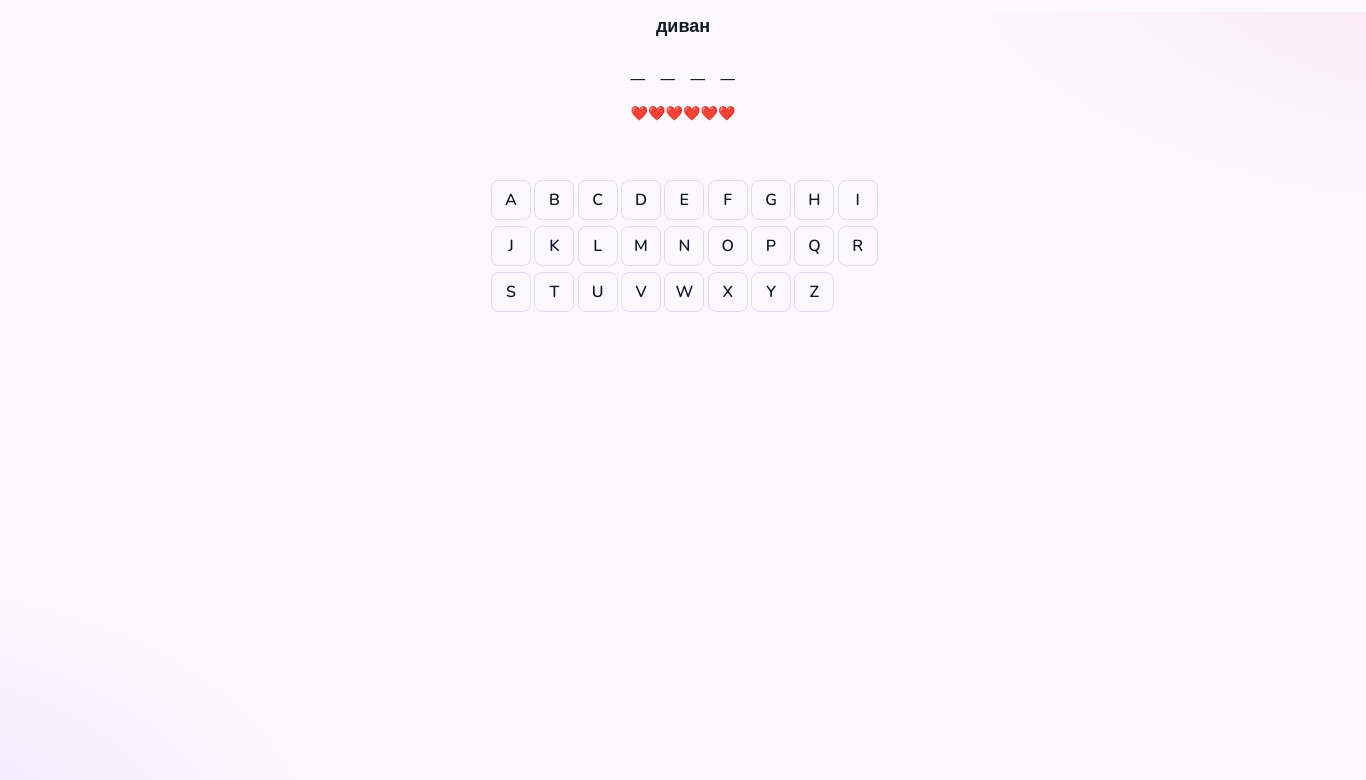
Test: LetterGuess › shows the word after six wrong letters
Click the button "b" at (554, 200), box x1=534 y1=180 x2=574 y2=220
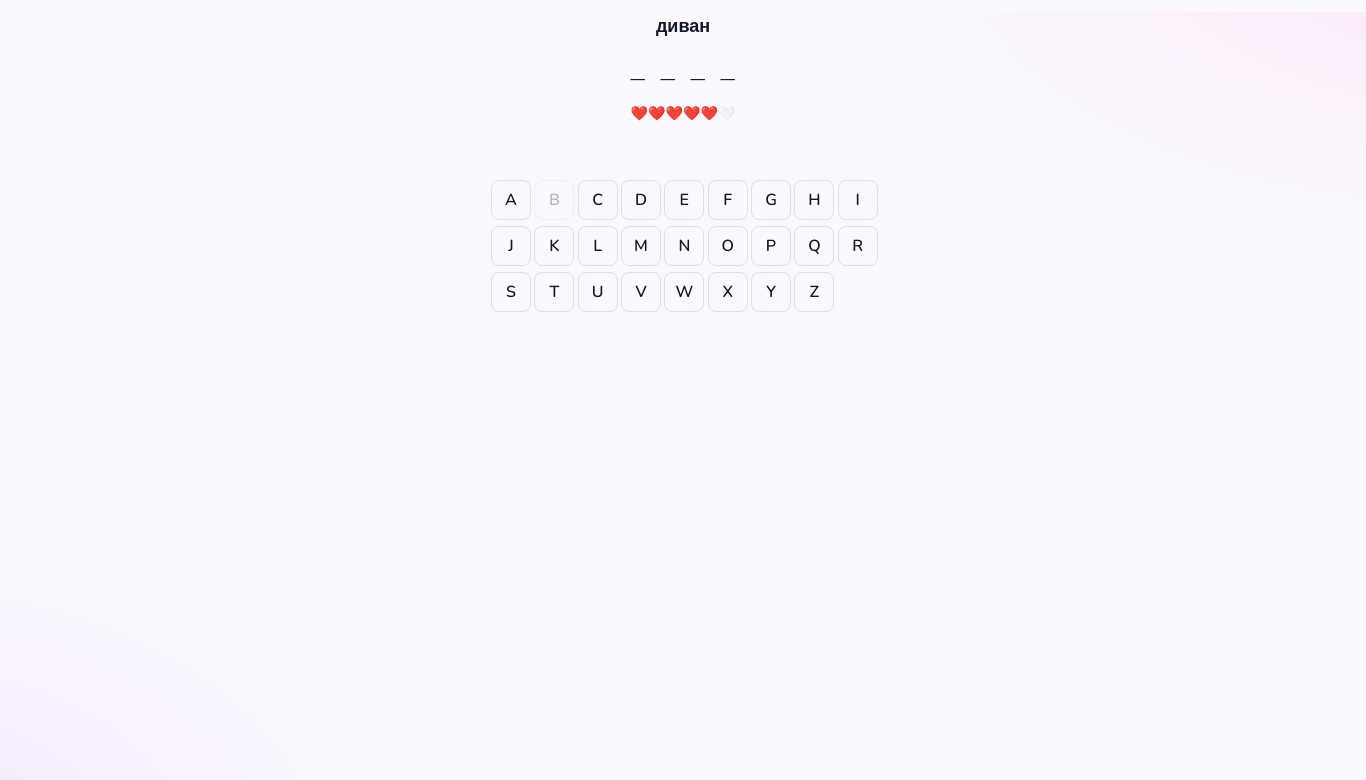
Click the button "c" at (598, 200), box x1=578 y1=180 x2=618 y2=220
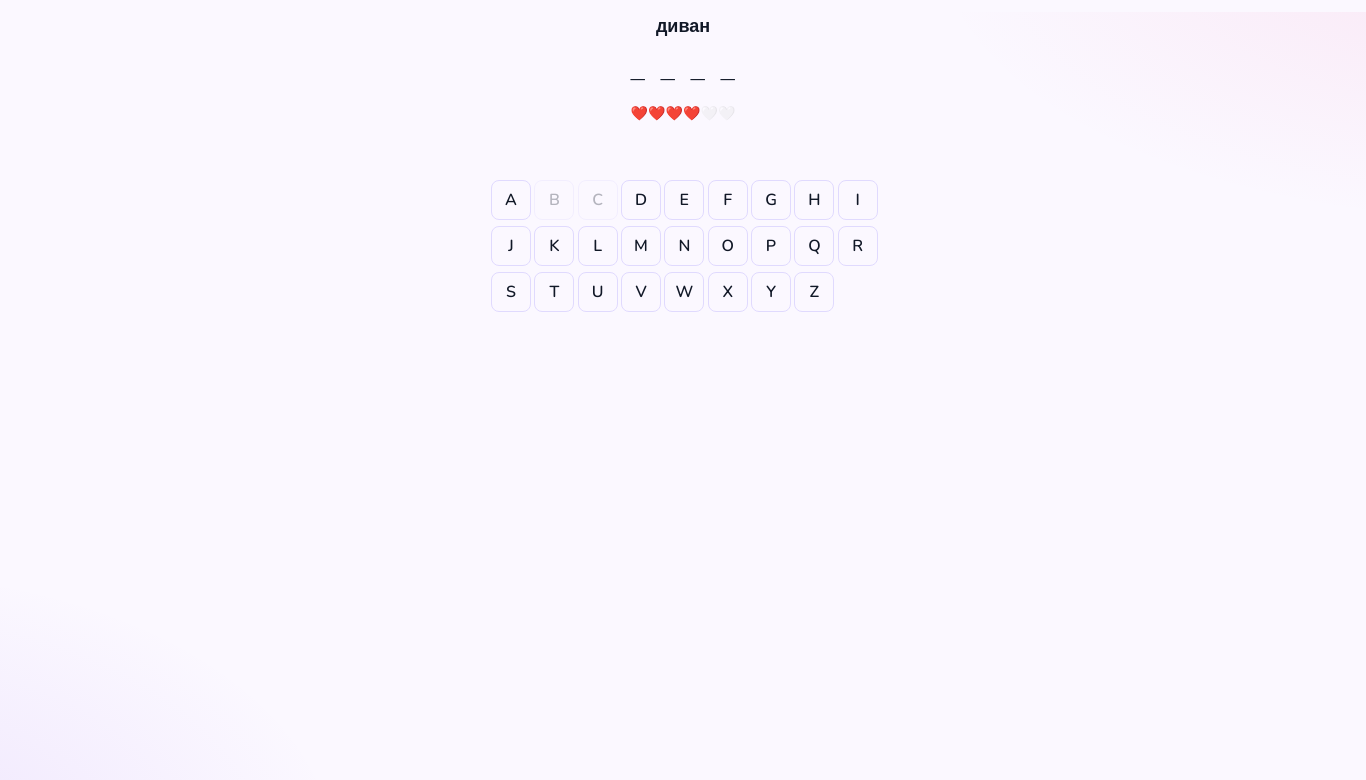
Click the button "d" at (641, 200), box x1=621 y1=180 x2=661 y2=220
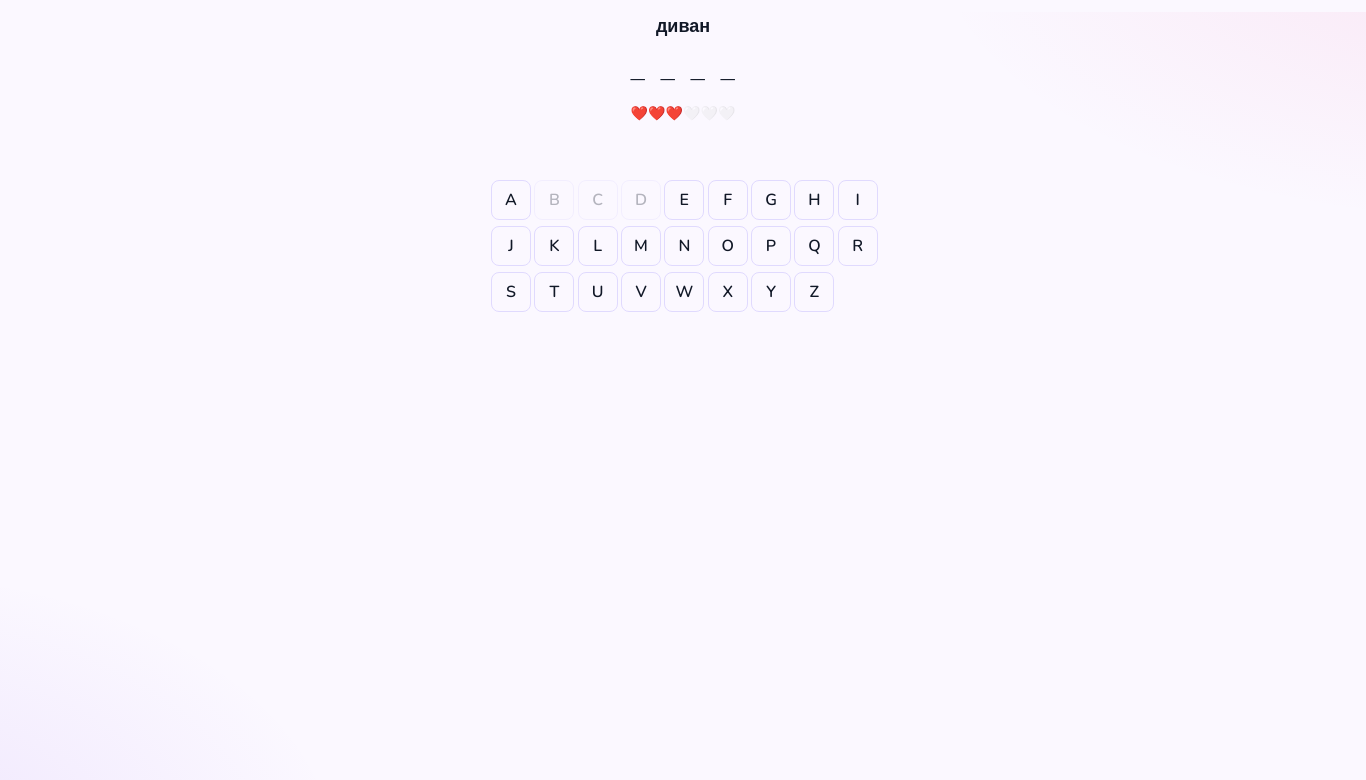
Click the button "e" at (684, 200), box x1=664 y1=180 x2=704 y2=220
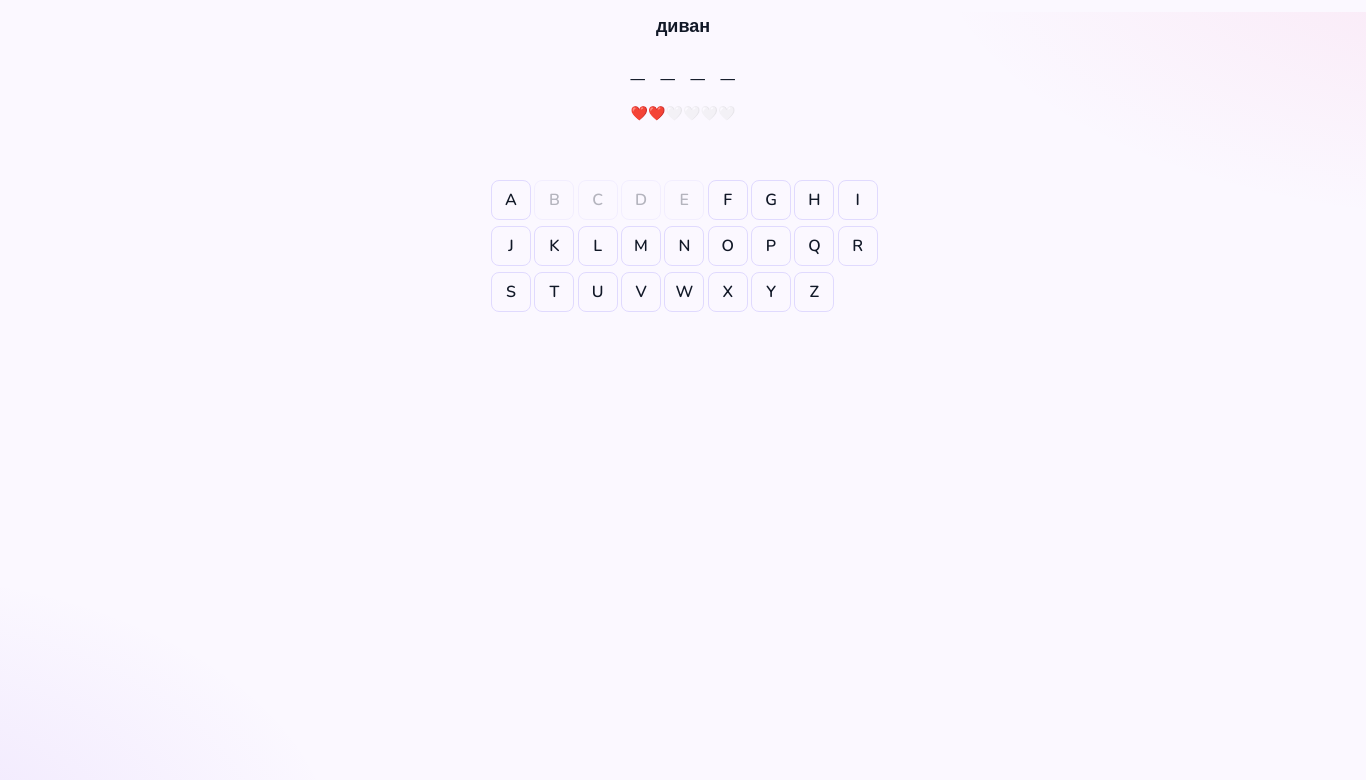
Click the button "g" at (771, 200), box x1=751 y1=180 x2=791 y2=220
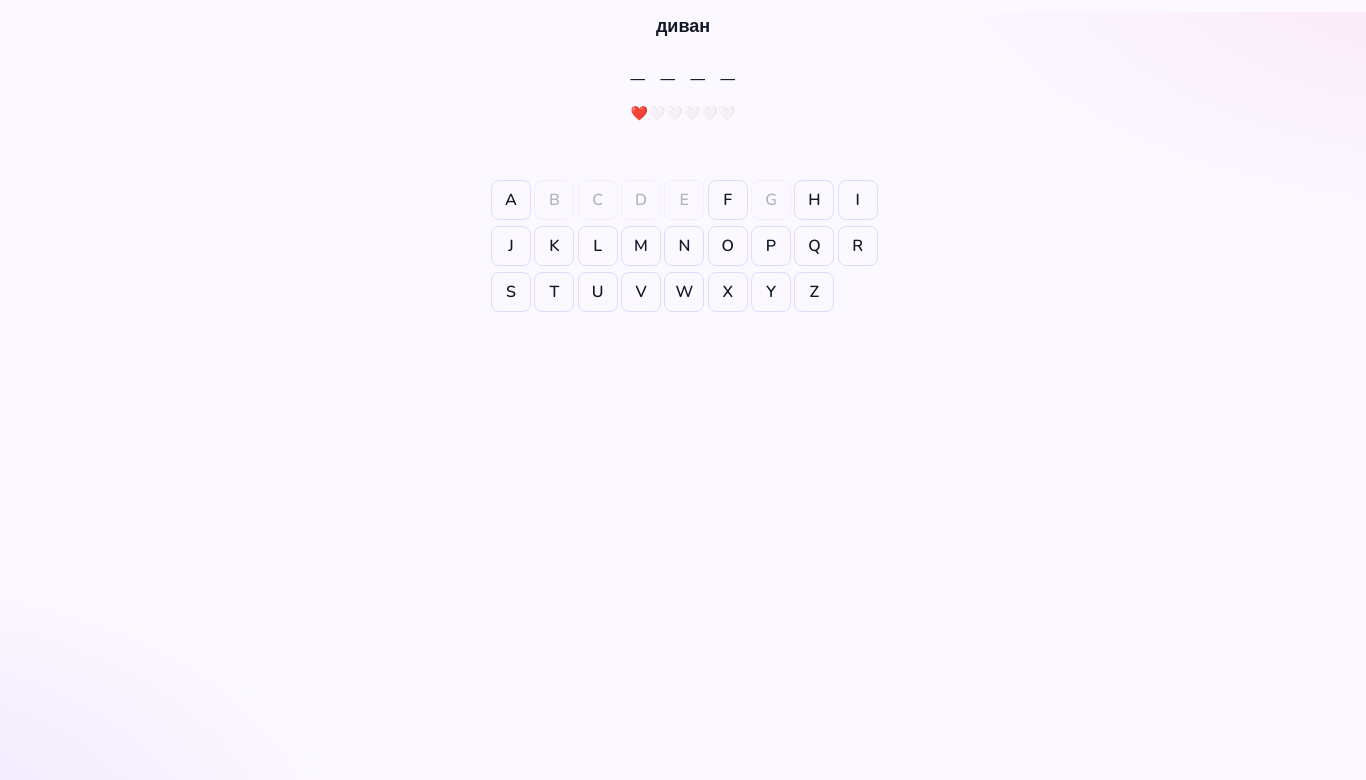
Click the button "h" at (814, 200), box x1=794 y1=180 x2=834 y2=220
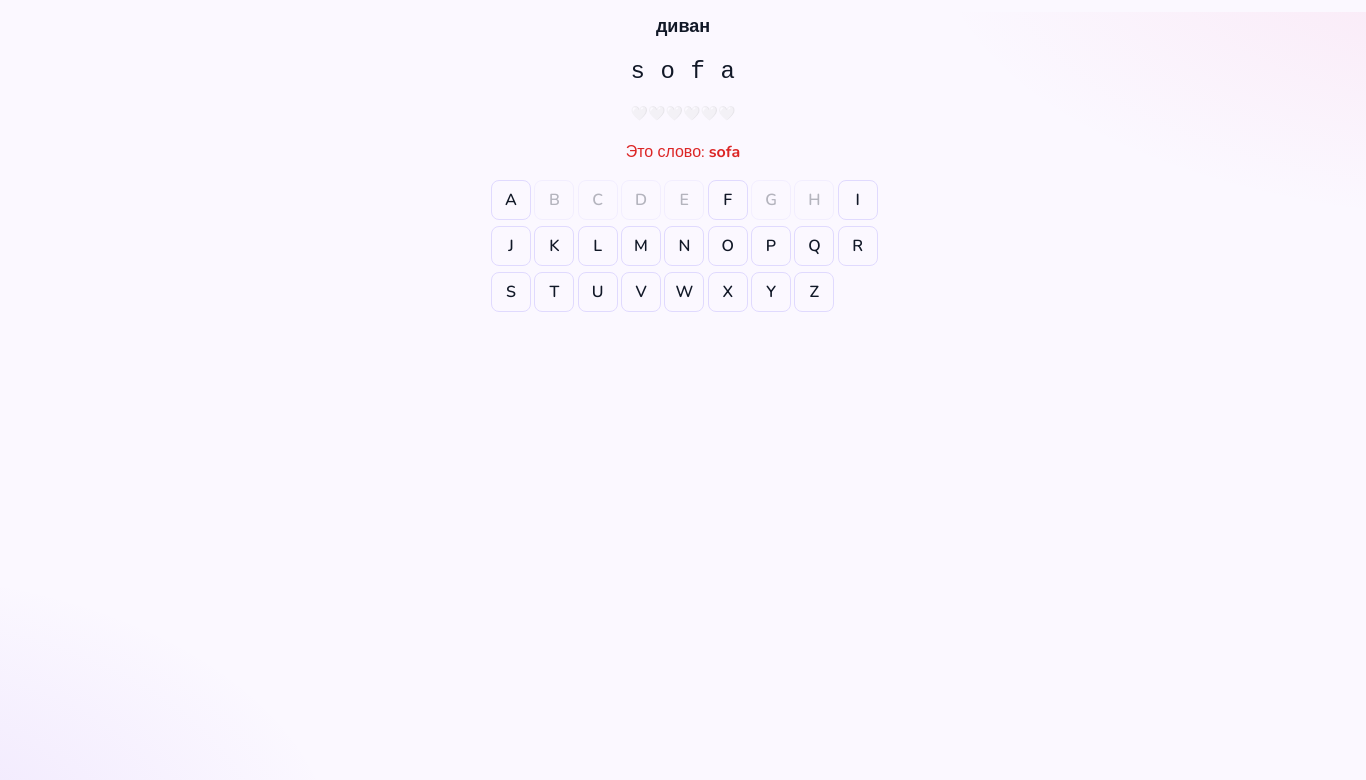
Check: the text "sofa" is shown, box x1=709 y1=141 x2=740 y2=163
Check: the text named "Слово" reads "s o f a", box x1=630 y1=58 x2=736 y2=85
